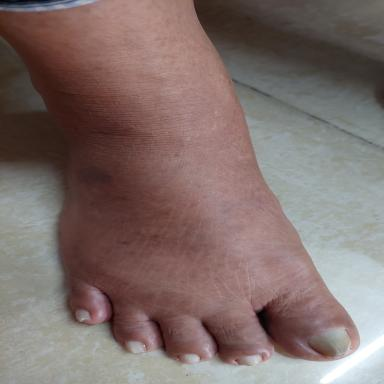normal skin: (1, 0, 359, 365)
